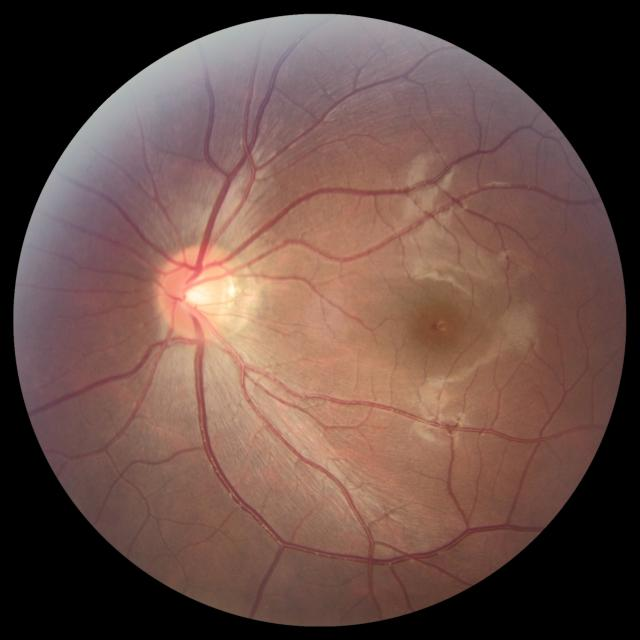OC: (181, 276, 217, 311)
OD: (157, 243, 239, 338)
